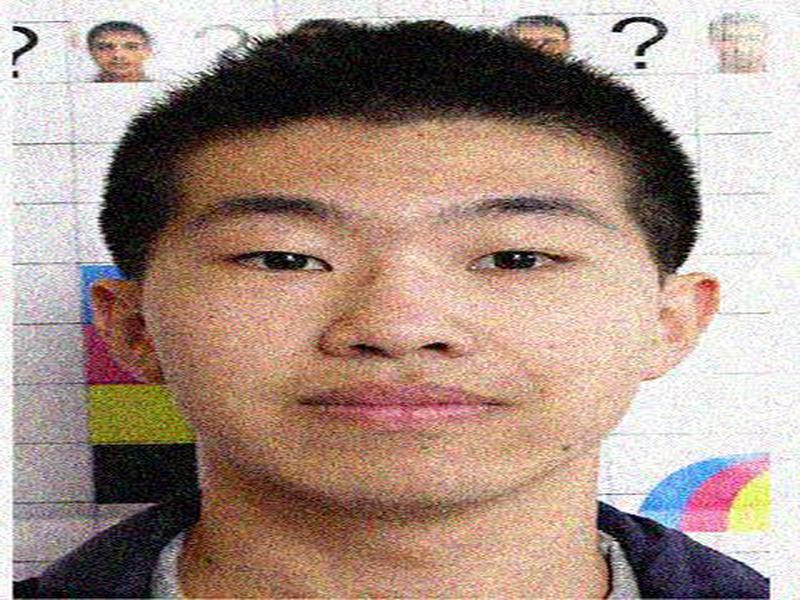without_mask: (138, 133, 653, 512)
